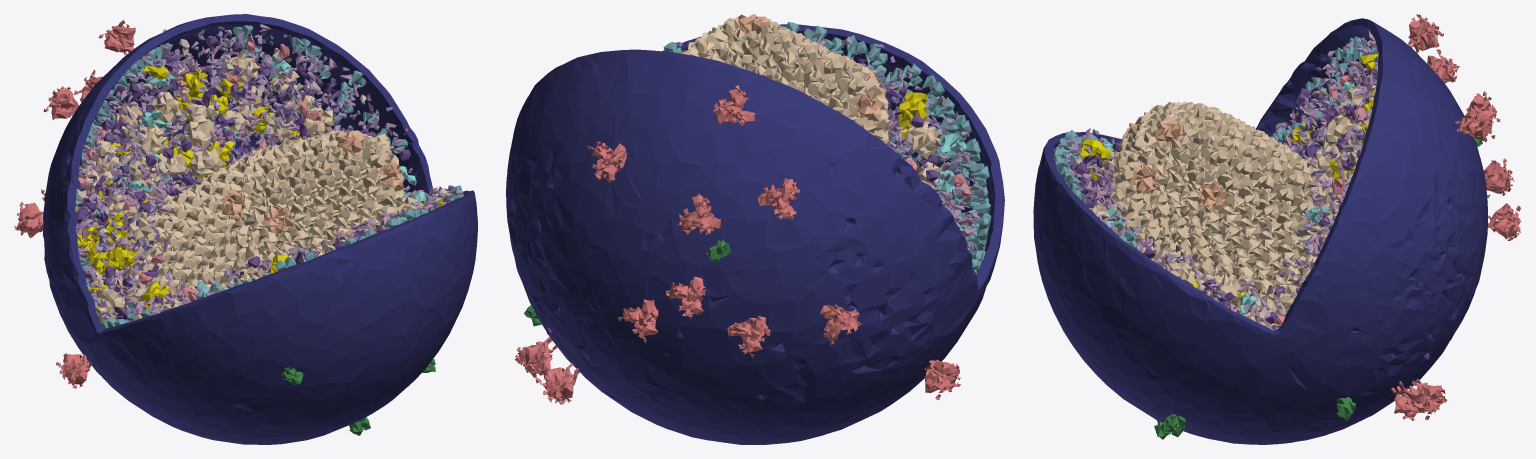
Rendered from hiv-virus-interactive-lod.glb.
3 renders of one model, left to right at view 1: azimuth 30°, elevation 25°; view 2: azimuth 150°, elevation 25°; view 3: azimuth 270°, elevation 25°, orthographic. The views are drawn at different scales.
Parts seen in each view (by area): view 1: HIVVirion_1.ply; view 2: HIVVirion_1.ply; view 3: HIVVirion_1.ply.
Boxes of the visible parts, left/top/right/bottom form: HIVVirion_1.ply: left=14, top=14, right=477, bottom=444; HIVVirion_1.ply: left=506, top=14, right=1004, bottom=444; HIVVirion_1.ply: left=1033, top=14, right=1521, bottom=444.
Size of the model in its own units: 7.41 by 6.79 by 7.93.
